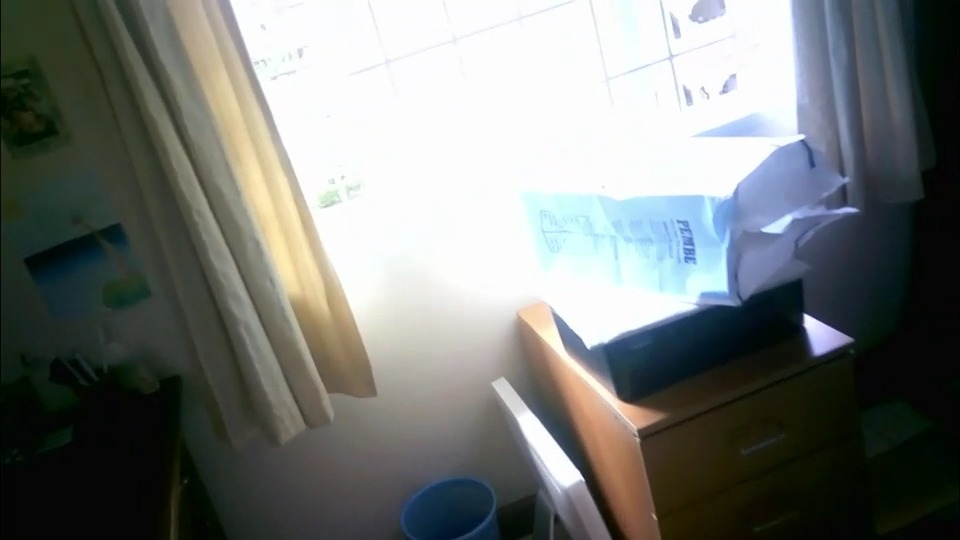wheat_flour_blue_label: (545, 130, 827, 300)
